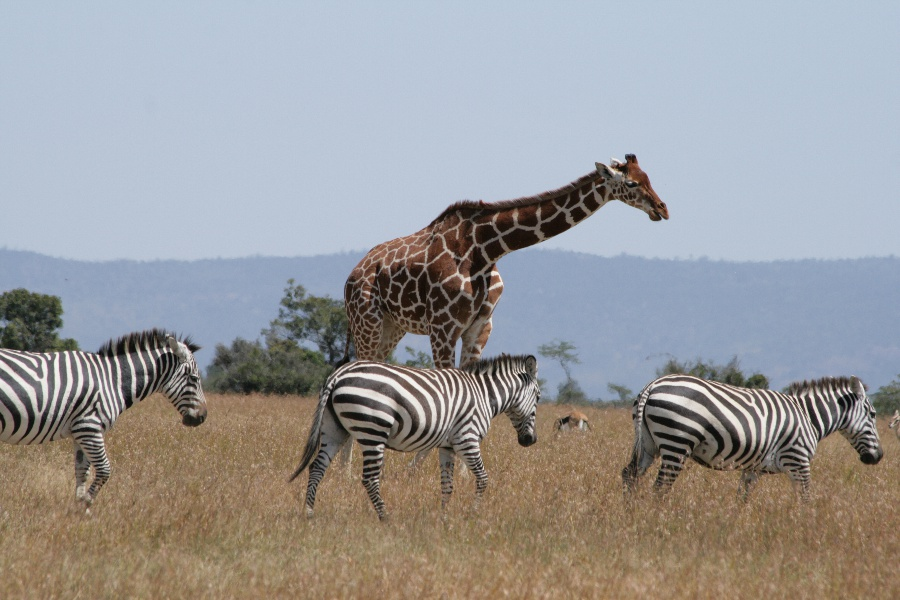giraffe: (338, 150, 672, 362)
